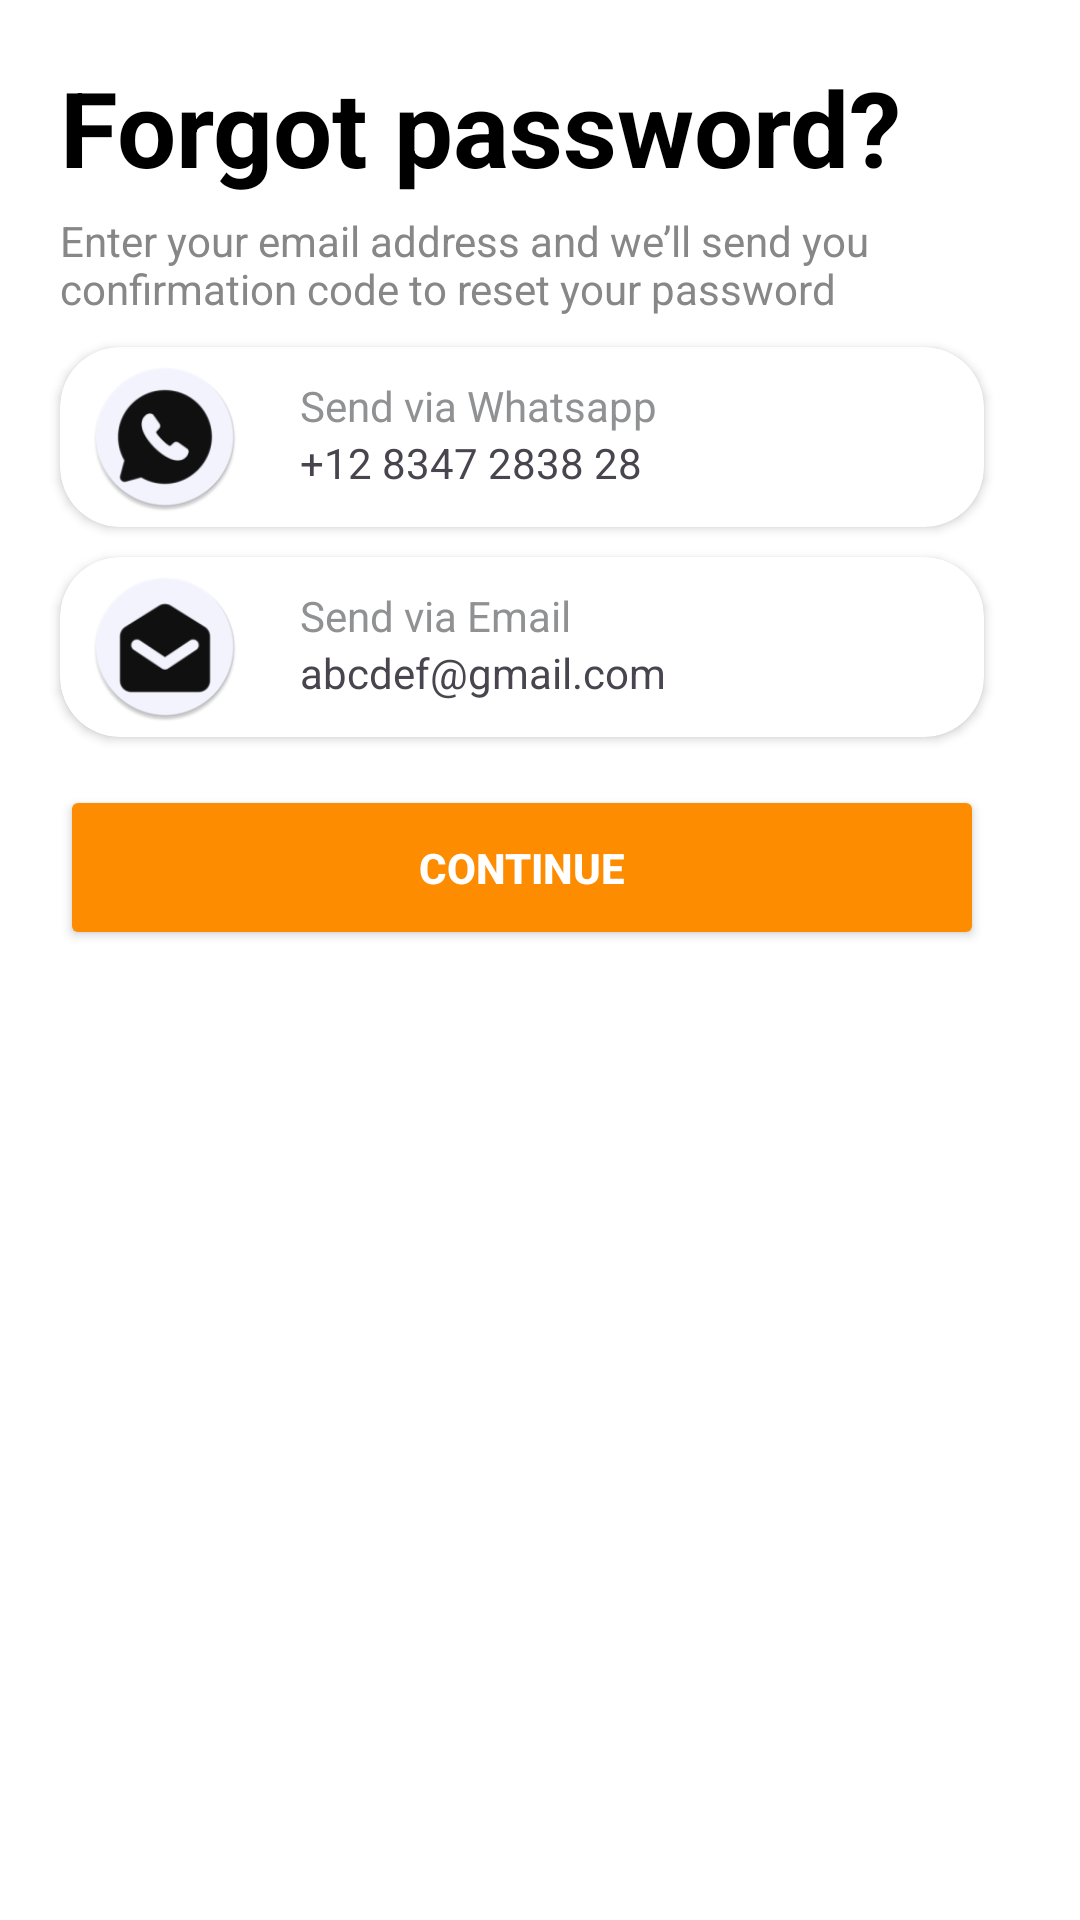

Named icons in this screenshot (1080×1920) and their bounding boxes, (x1, y1, x2, y2):
email round: (95, 578, 235, 721)
